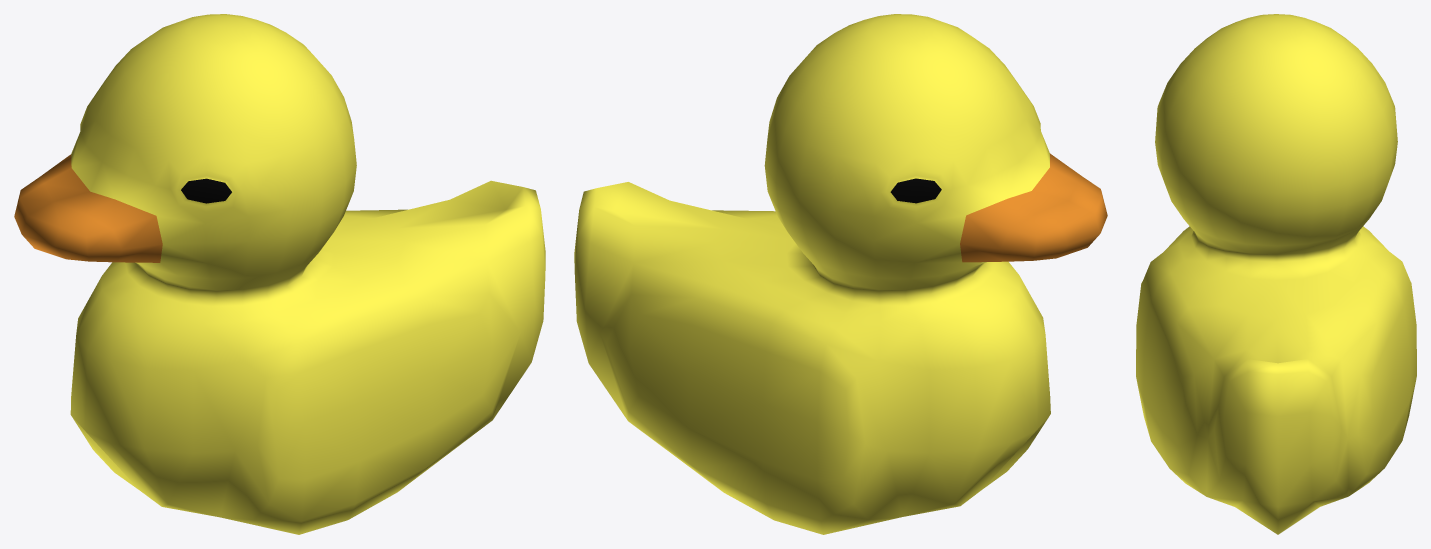
File: rubber_duck.glb
The picture shows the model from 3 angles, left to right: view 1: azimuth 30°, elevation 25°; view 2: azimuth 150°, elevation 25°; view 3: azimuth 270°, elevation 25°; orthographic projection. The views are drawn at different scales.
Parts seen in each view (by area): view 1: Material_001-material, Material_002-material, Eyes-material; view 2: Material_001-material, Material_002-material, Eyes-material; view 3: Material_001-material.
Part boxes in pixels (bbox=[...]): Material_001-material: bbox=[70, 14, 545, 534]; Material_002-material: bbox=[14, 154, 162, 262]; Eyes-material: bbox=[181, 178, 231, 203]; Material_001-material: bbox=[574, 14, 1050, 534]; Material_002-material: bbox=[960, 153, 1107, 262]; Eyes-material: bbox=[890, 178, 941, 203]; Material_001-material: bbox=[1136, 14, 1416, 534].
Bounding box in the file's own units: 0.3989 × 0.3439 × 0.2117.
